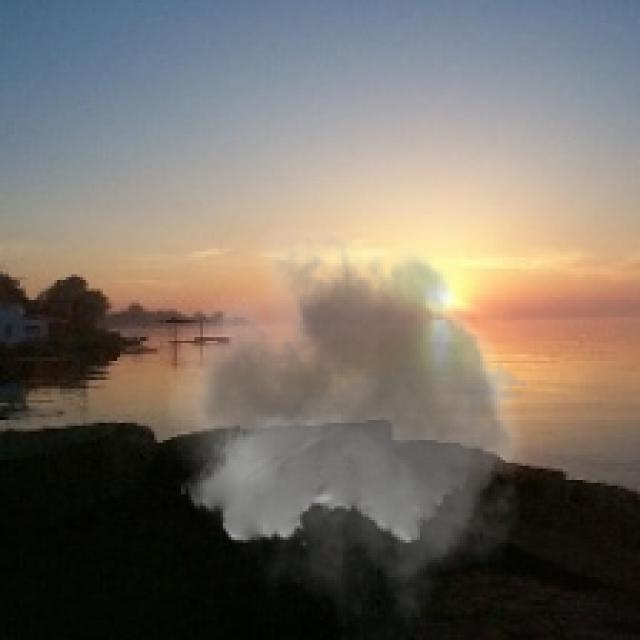smoke: (166, 206, 540, 628)
